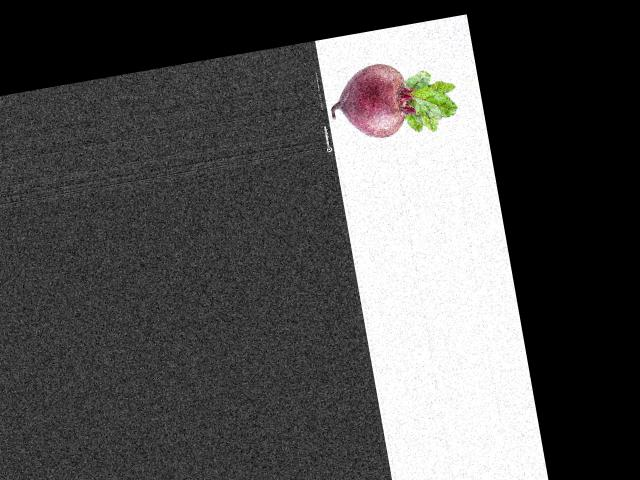beet: (325, 50, 462, 147)
